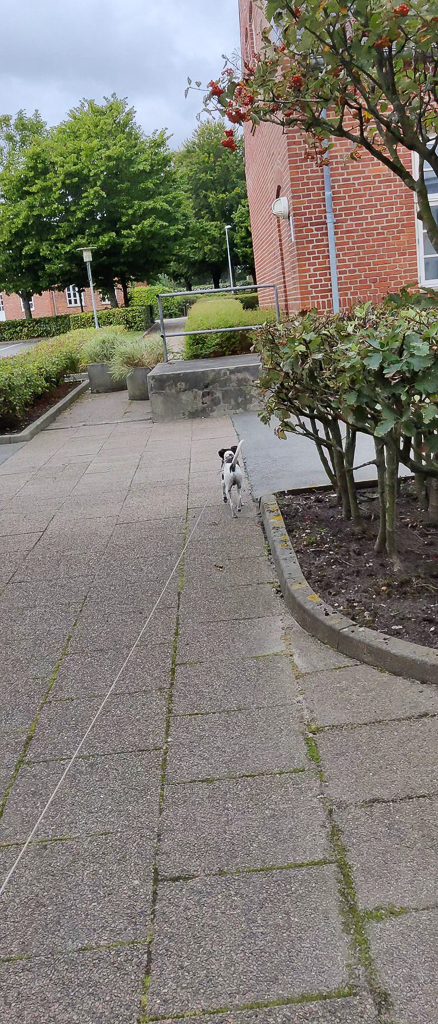Dog: (208, 436, 261, 526)
